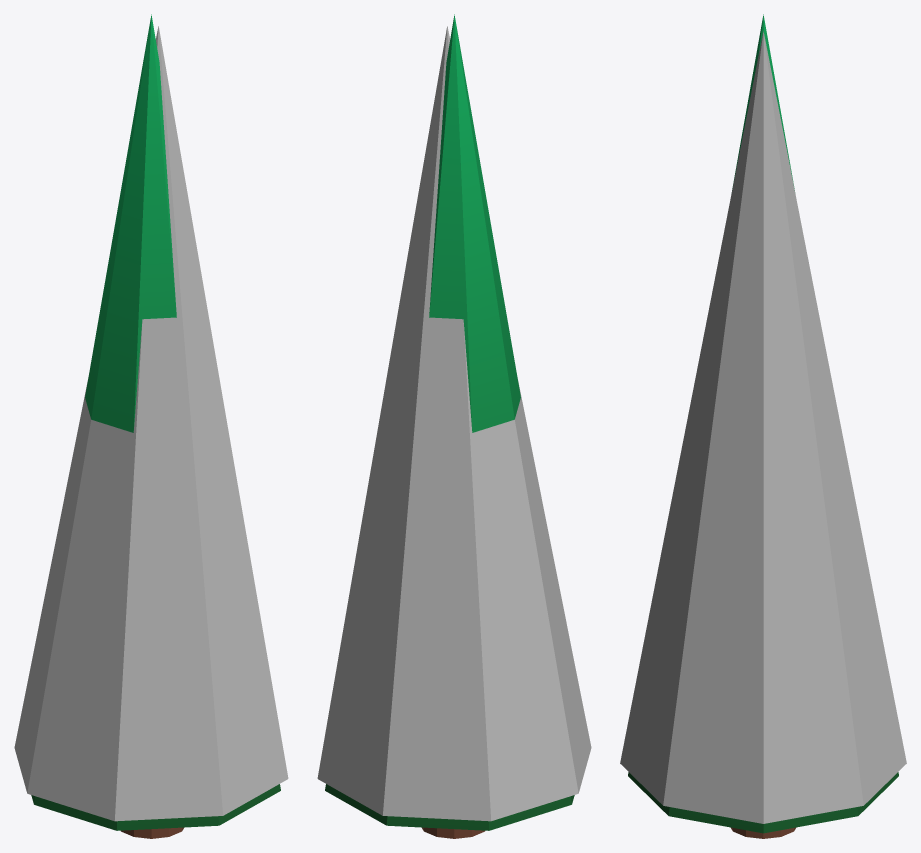
The model's file is Tree_24_winter_gradient_green_vc.fbx.
3 views of the same model, side by side, from view 1: azimuth 30°, elevation 25°; view 2: azimuth 150°, elevation 25°; view 3: azimuth 270°, elevation 25° (orthographic).
Visible parts, largest first — view 1: Tree_24_winter_gradient_green_vc; view 2: Tree_24_winter_gradient_green_vc; view 3: Tree_24_winter_gradient_green_vc.
Part boxes in pixels (x1,y1,x2,y2): Tree_24_winter_gradient_green_vc: (14, 14, 288, 838); Tree_24_winter_gradient_green_vc: (317, 14, 591, 838); Tree_24_winter_gradient_green_vc: (620, 14, 906, 838).
Bounding box in the file's own units: 90.22 × 281 × 90.22.
